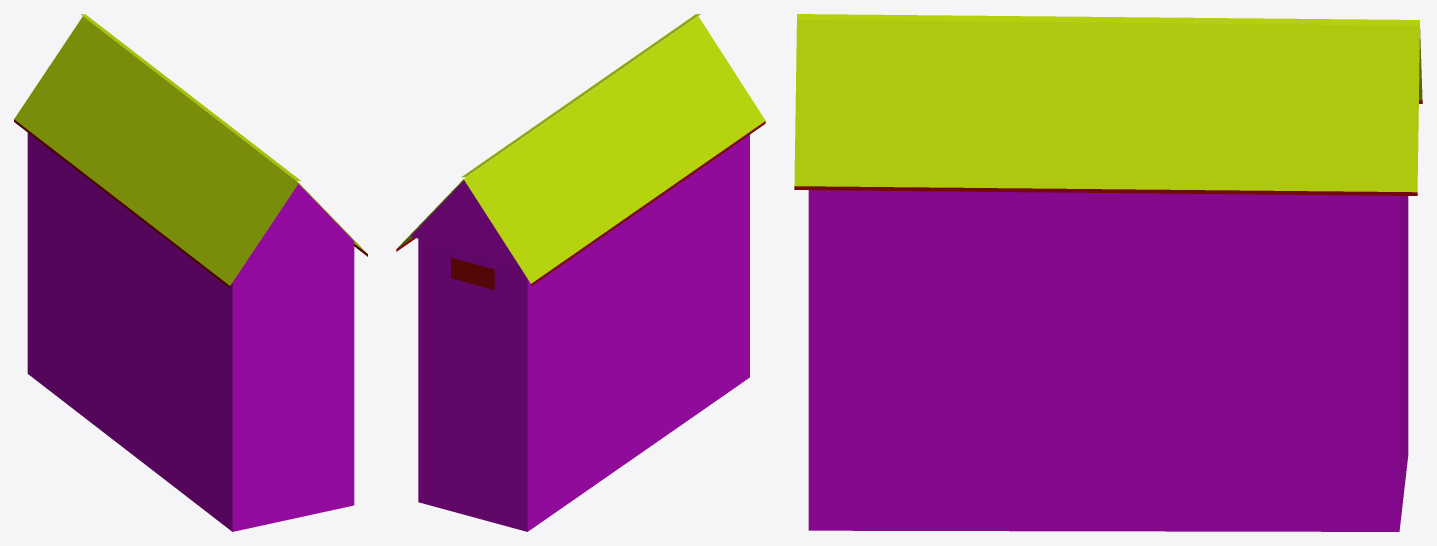
Rendered from bgj_319.glb.
3 renders of one model, left to right at view 1: azimuth 30°, elevation 25°; view 2: azimuth 150°, elevation 25°; view 3: azimuth 270°, elevation 25°, orthographic. The views are drawn at different scales.
Parts seen in each view (by area): view 1: bgj_319; view 2: bgj_319; view 3: bgj_319.
Boxes of the visible parts, box(x1,y1,x2,y2) form: bgj_319: box(14, 14, 367, 531); bgj_319: box(396, 14, 765, 531); bgj_319: box(794, 14, 1422, 531).
Bounding box in the file's own units: 6.6 × 14.91 × 17.88.
